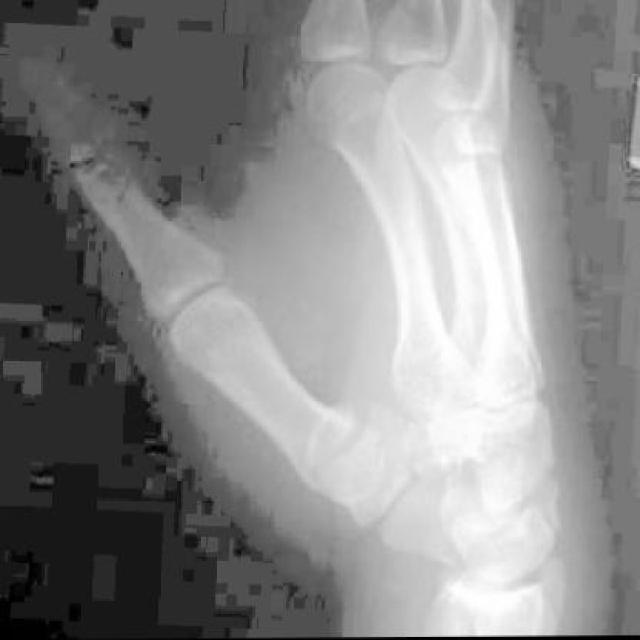Fracture: (293, 402, 402, 521)
